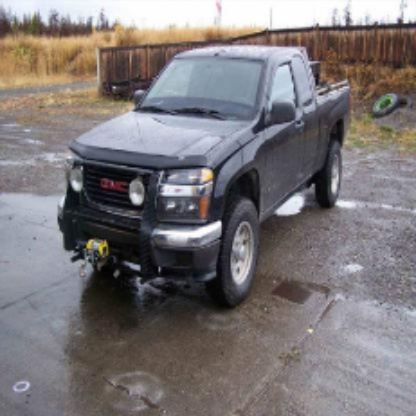Vehicle: (56, 47, 352, 309)
